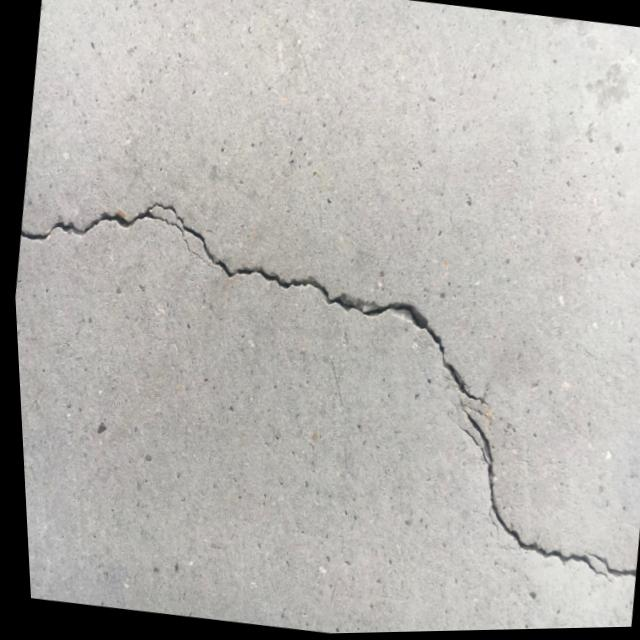Crack: (389, 323, 541, 547), (198, 249, 432, 348), (14, 172, 222, 278), (492, 527, 634, 596)
